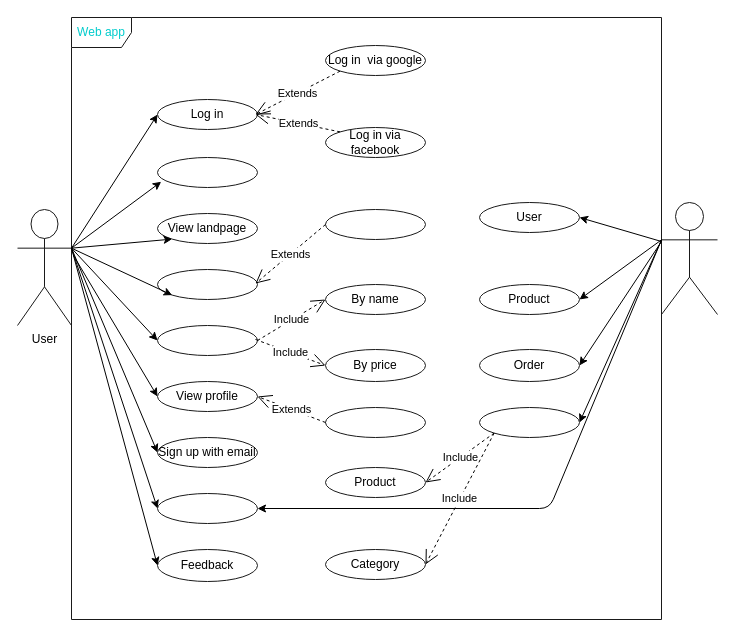
Some shapes in this 735 by 637 pixel diagram are drawn without their labels. Here are the shapes that lost their labels. From the top down, the centre of each, then its label:
point (207, 172): Log out
point (375, 224): View details
point (689, 258): Admin
point (207, 284): View product
point (207, 340): Search
point (375, 422): Edit profile
point (529, 422): Revenue
point (207, 508): Live chat
